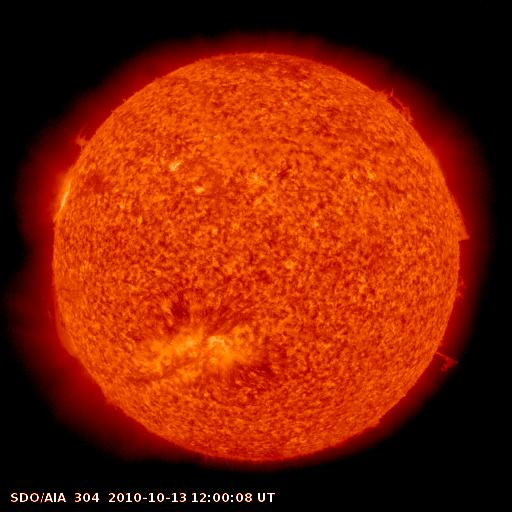prominence: (42, 267, 87, 369), (445, 187, 483, 254), (420, 338, 470, 377), (376, 80, 418, 125), (62, 119, 98, 162), (444, 273, 472, 307)
